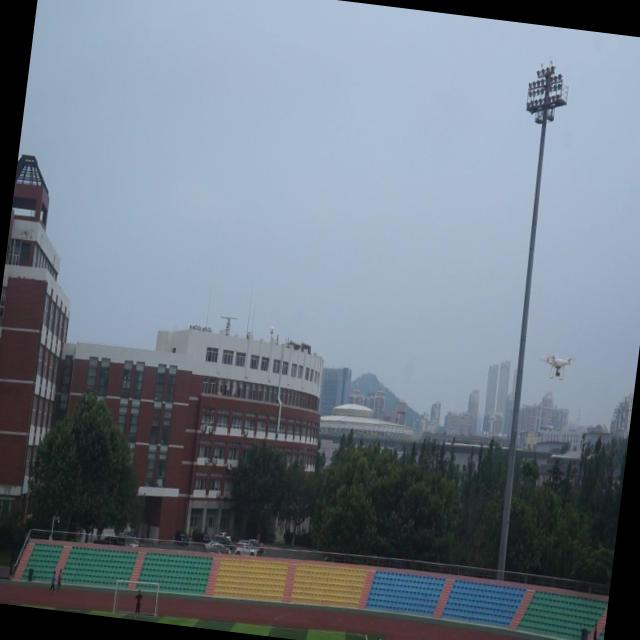drone: (542, 352, 574, 383)
